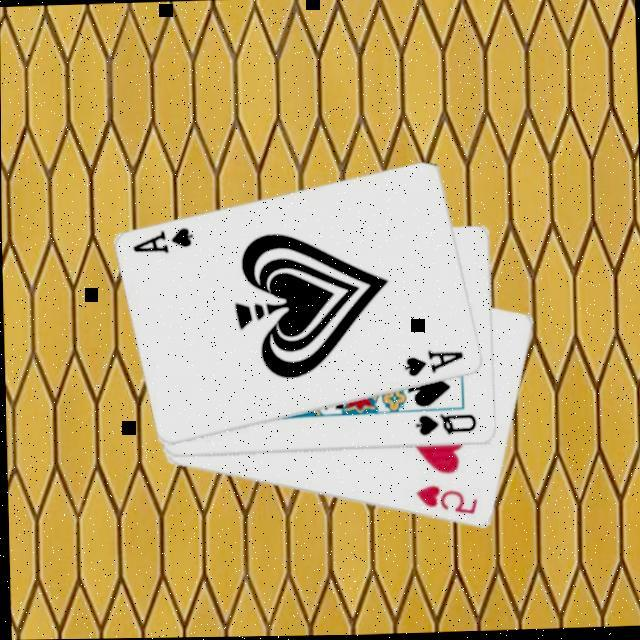5H: (412, 481, 481, 518)
AS: (129, 222, 198, 256), (401, 345, 468, 379)
QS: (412, 409, 479, 439)
